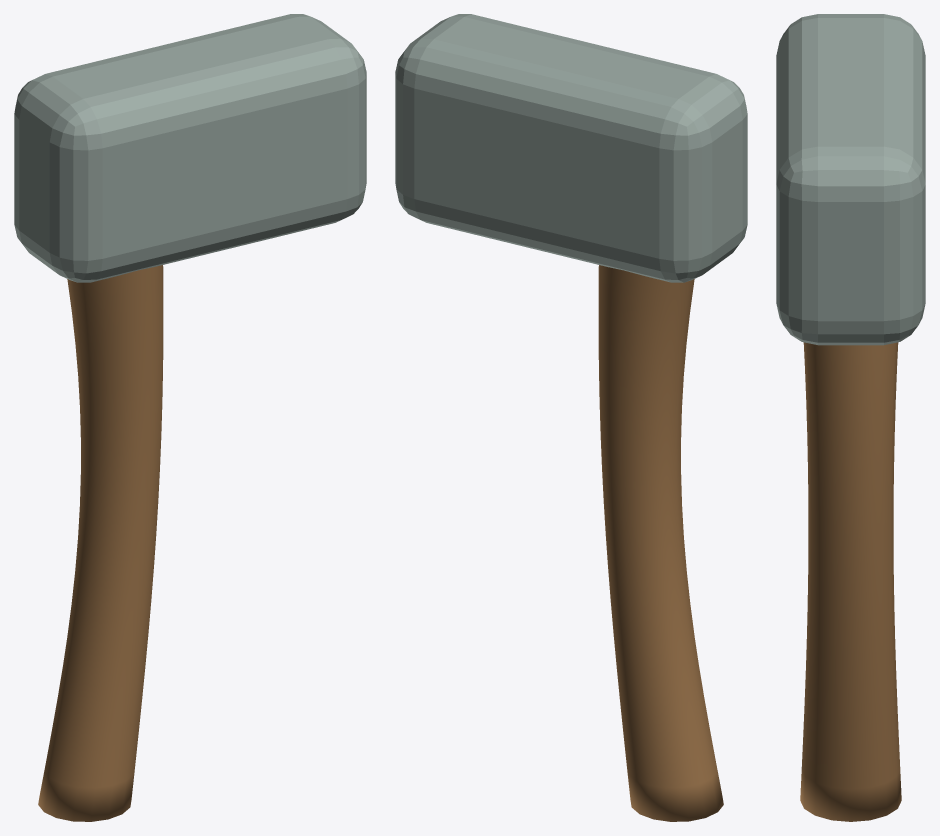
The model's file is direct-1000.glb.
The picture shows the model from 3 angles, left to right: view 1: azimuth 30°, elevation 25°; view 2: azimuth 150°, elevation 25°; view 3: azimuth 270°, elevation 25°; orthographic projection. The views are drawn at different scales.
Parts seen in each view (by area): view 1: Cube.001, Handle.001; view 2: Cube.001, Handle.001; view 3: Cube.001, Handle.001.
Boxes of the visible parts, x1,y1,x2,y2 form: Cube.001: (14, 14, 366, 282); Handle.001: (38, 265, 163, 821); Cube.001: (395, 14, 747, 282); Handle.001: (598, 265, 723, 821); Cube.001: (776, 14, 925, 345); Handle.001: (800, 342, 901, 821).
Bounding box in the file's own units: 0.65 × 1.43 × 0.25.
